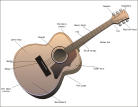guitar: (12, 8, 130, 99)
